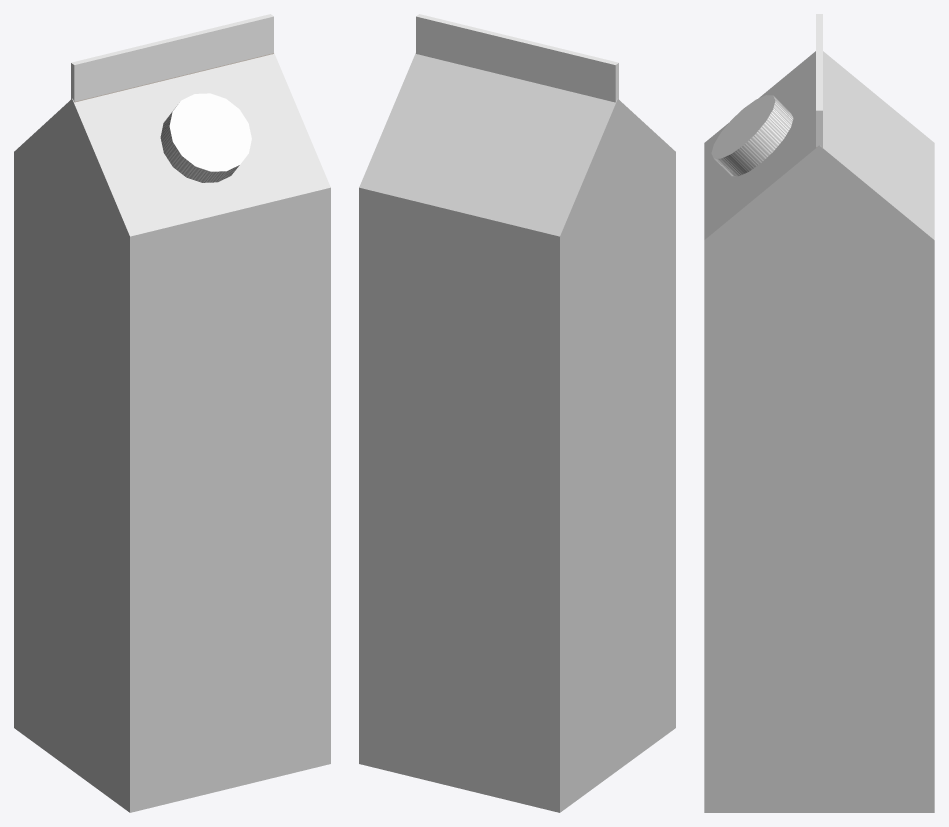
Rendered from Milk.fbx.
The picture shows the model from 3 angles, left to right: view 1: azimuth 30°, elevation 25°; view 2: azimuth 150°, elevation 25°; view 3: azimuth 270°, elevation 25°; orthographic projection.
Visible parts, largest first — view 1: Col, Milk, Cap; view 2: Col, Milk; view 3: Col, Cap, Milk.
Part boxes in pixels (left/top/right/bottom): Col: left=14, top=53, right=330, bottom=812; Milk: left=71, top=14, right=273, bottom=102; Cap: left=160, top=93, right=251, bottom=182; Col: left=359, top=53, right=675, bottom=812; Milk: left=416, top=14, right=618, bottom=102; Col: left=704, top=51, right=934, bottom=812; Cap: left=711, top=95, right=793, bottom=176; Milk: left=816, top=14, right=822, bottom=147.
Size of the model in its own units: 0.0874 by 0.0874 by 0.2938.
